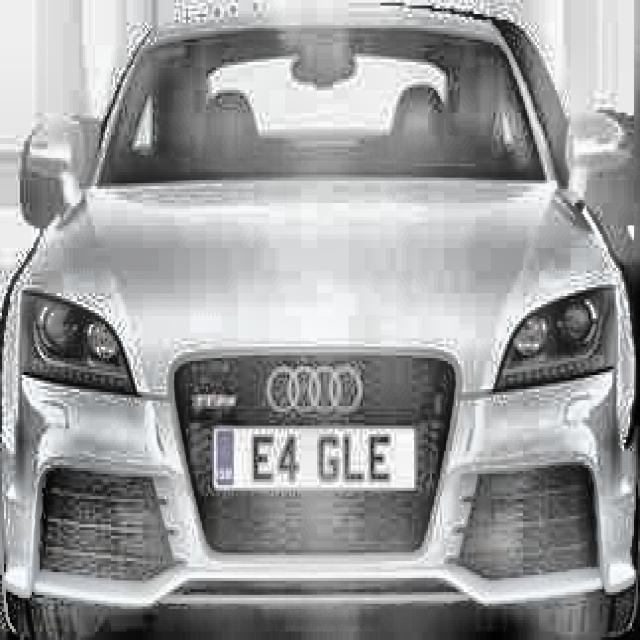license_plate: (213, 422, 410, 496)
